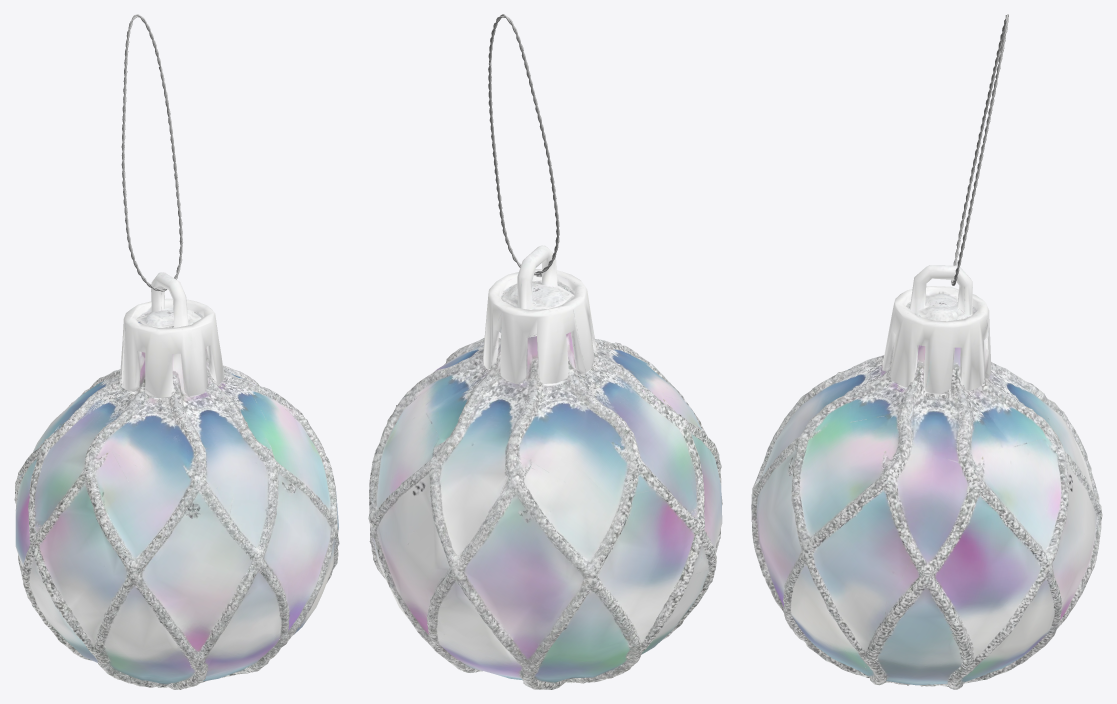
Rendered from Iridescent_Diamond_Orb_S.glb.
3 views of the same model, side by side, from view 1: azimuth 30°, elevation 25°; view 2: azimuth 150°, elevation 25°; view 3: azimuth 270°, elevation 25° (orthographic). The views are drawn at different scales.
Visible parts, largest first — view 1: Mesh1.0, GN Instance; view 2: Mesh1.0, GN Instance; view 3: Mesh1.0, GN Instance.
Part boxes in pixels (x1,y1,x2,y2): Mesh1.0: [14, 272, 339, 689]; GN Instance: [121, 14, 182, 291]; Mesh1.0: [368, 245, 722, 689]; GN Instance: [488, 14, 559, 275]; Mesh1.0: [751, 265, 1102, 689]; GN Instance: [951, 14, 1008, 285].
Size of the model in its own units: 0.0402 by 0.0831 by 0.0399.
2 materials, 1 textured.
